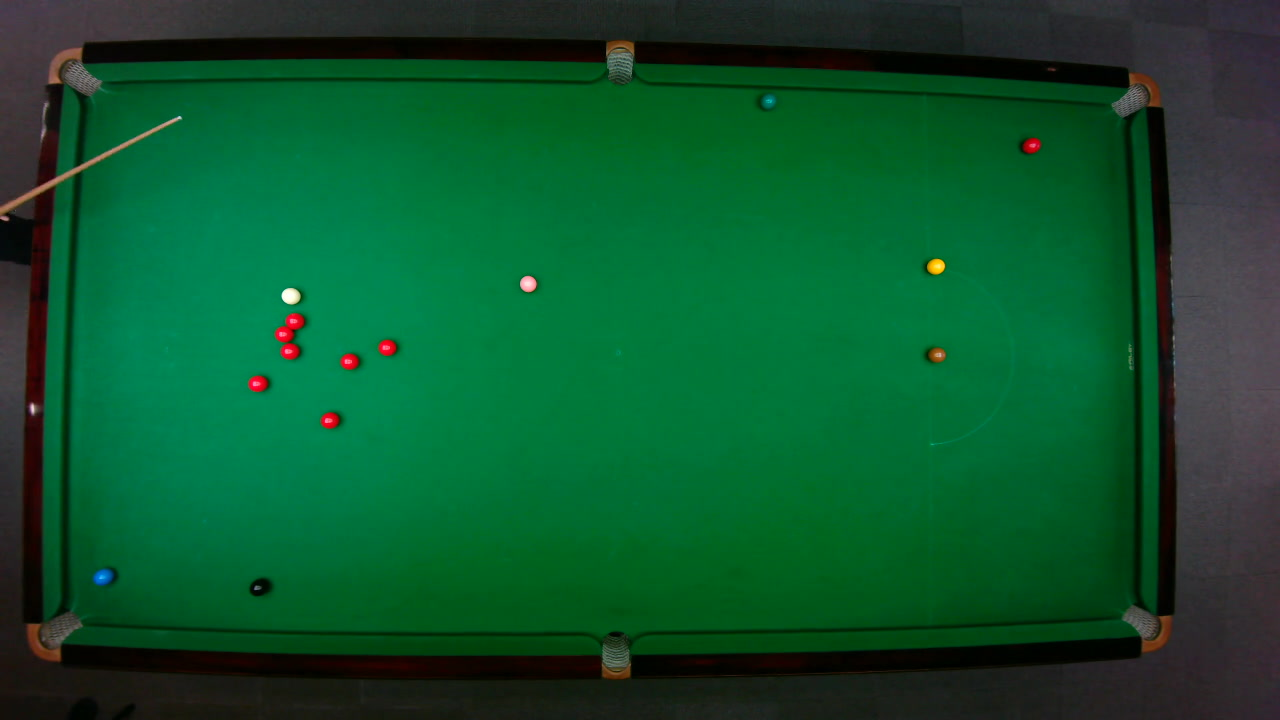bag: (25, 609, 84, 661), (45, 46, 102, 96), (1119, 603, 1172, 652), (1108, 71, 1161, 118), (600, 629, 629, 680), (605, 38, 633, 85)
black: (248, 577, 268, 596)
blue: (91, 566, 114, 585)
brown: (926, 346, 946, 362)
cue: (0, 113, 184, 213)
green: (759, 93, 776, 110)
pink: (518, 274, 537, 292)
red: (318, 410, 340, 429), (246, 374, 269, 392), (376, 337, 397, 356), (338, 351, 359, 369), (284, 312, 304, 330), (1021, 136, 1041, 154), (279, 342, 300, 359), (273, 325, 293, 342)
white: (280, 286, 301, 304)
yellow: (925, 257, 946, 275)
zone: (927, 263, 1014, 445)
